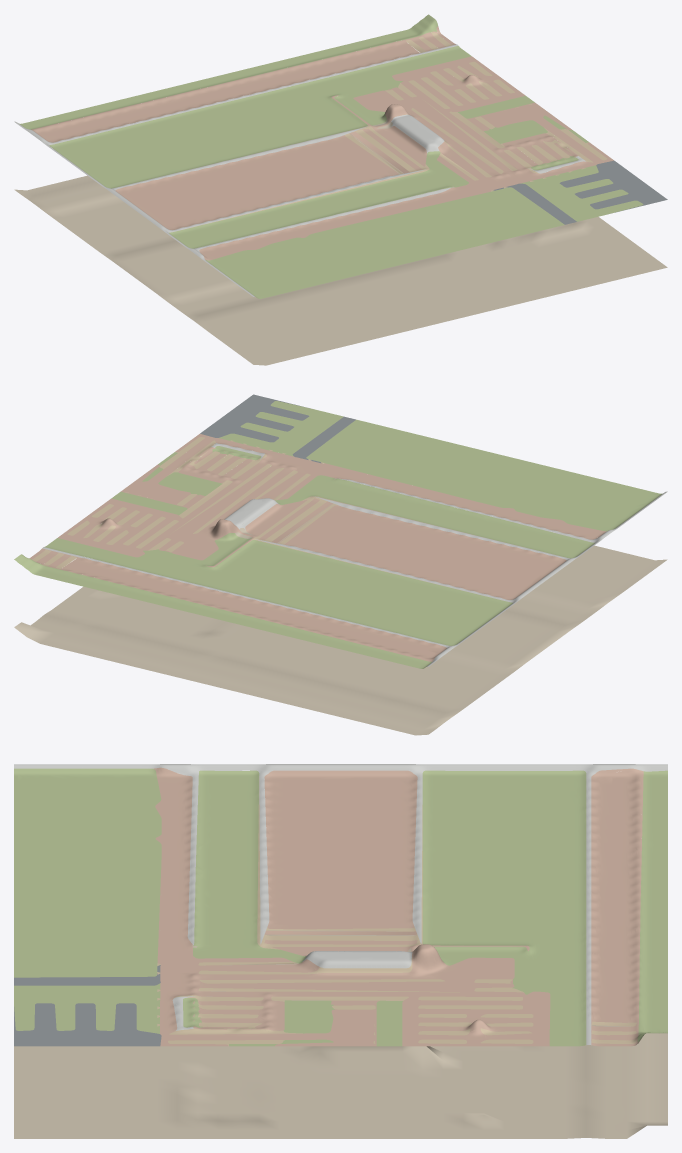
The picture shows the model from 3 angles, top to bottom: view 1: azimuth 30°, elevation 25°; view 2: azimuth 150°, elevation 25°; view 3: azimuth 270°, elevation 25°; orthographic projection. The views are drawn at different scales.
Visible parts, largest first — view 1: s_-7_-2__grass, s_-7_-2__soil, s_-7_-2__brick_paving, s_-7_-2__timber_deck, s_-7_-2__stone_paving, s_-7_-2__asphalt; view 2: s_-7_-2__grass, s_-7_-2__soil, s_-7_-2__brick_paving, s_-7_-2__timber_deck, s_-7_-2__stone_paving, s_-7_-2__asphalt; view 3: s_-7_-2__grass, s_-7_-2__brick_paving, s_-7_-2__soil, s_-7_-2__timber_deck, s_-7_-2__stone_paving, s_-7_-2__asphalt.
Part boxes in pixels (left/top/right/bottom): s_-7_-2__grass: left=19, top=14, right=643, bottom=298; s_-7_-2__soil: left=14, top=119, right=667, bottom=365; s_-7_-2__brick_paving: left=31, top=26, right=613, bottom=260; s_-7_-2__timber_deck: left=181, top=32, right=607, bottom=230; s_-7_-2__stone_paving: left=14, top=44, right=585, bottom=296; s_-7_-2__asphalt: left=493, top=160, right=667, bottom=224; s_-7_-2__grass: left=14, top=401, right=662, bottom=668; s_-7_-2__soil: left=14, top=467, right=667, bottom=735; s_-7_-2__brick_paving: left=29, top=434, right=606, bottom=661; s_-7_-2__timber_deck: left=32, top=437, right=530, bottom=592; s_-7_-2__stone_paving: left=42, top=443, right=667, bottom=666; s_-7_-2__asphalt: left=200, top=394, right=355, bottom=463; s_-7_-2__grass: left=14, top=768, right=667, bottom=1046; s_-7_-2__brick_paving: left=153, top=767, right=643, bottom=1046; s_-7_-2__soil: left=14, top=930, right=667, bottom=1138; s_-7_-2__timber_deck: left=157, top=776, right=636, bottom=1046; s_-7_-2__stone_paving: left=14, top=764, right=667, bottom=1044; s_-7_-2__asphalt: left=14, top=965, right=161, bottom=1046.
Bounding box in the file's own units: 128 × 24.01 × 128.
